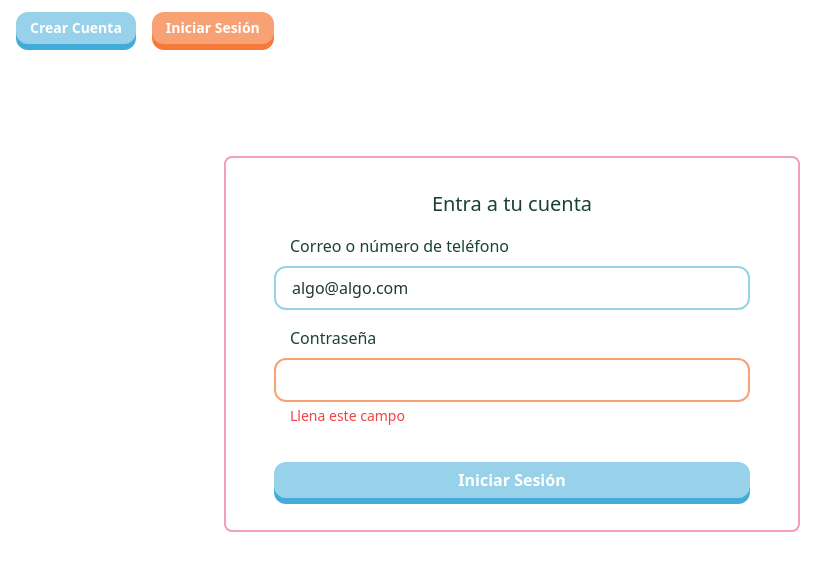
it: Validación de campos › Regex de identifier › Email con solo números no es válido
Replace the text in the field with id "identifier" with "4621234567@4352345.43545": (512, 288) [274, 266, 750, 310]
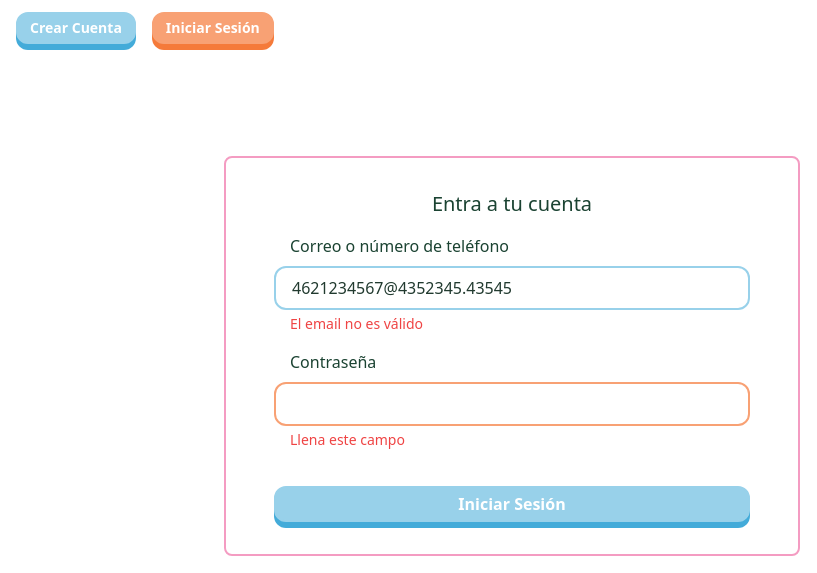
Now the text "El email no es válido" is shown, box [290, 314, 423, 333]
